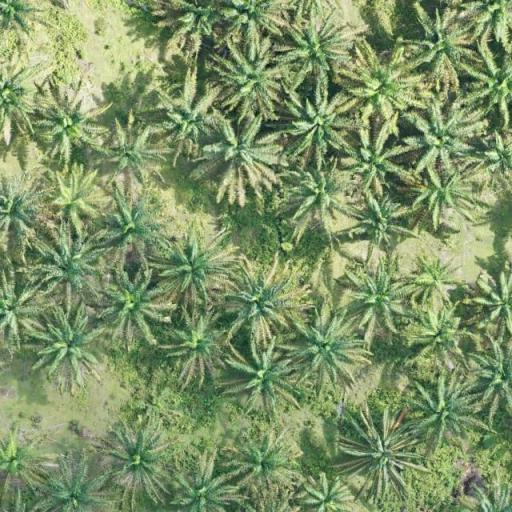Ganoderma: (57, 177, 96, 215), (420, 261, 454, 296)
